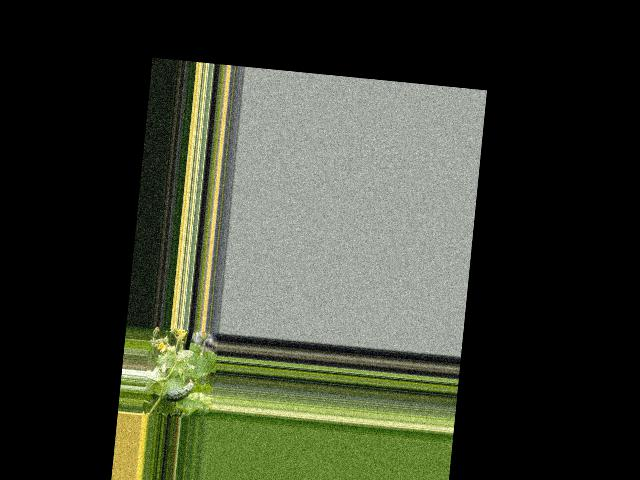cucumber: (163, 376, 194, 403)
